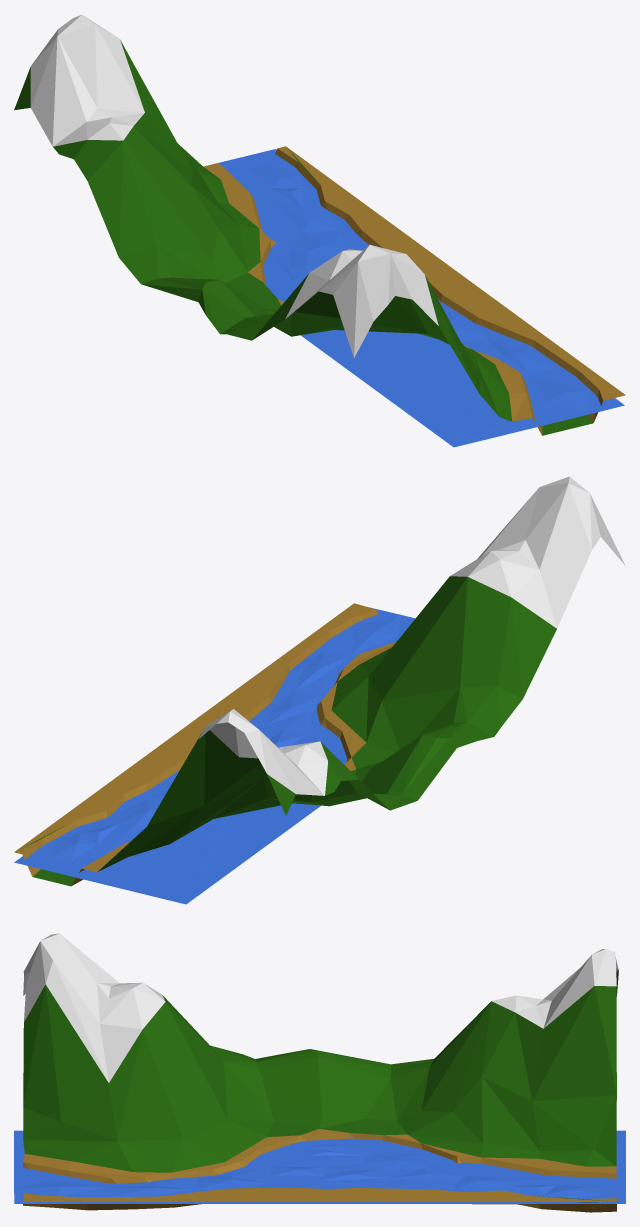
File: Mountain05.fbx
3 renders of one model, top to bottom at view 1: azimuth 30°, elevation 25°; view 2: azimuth 150°, elevation 25°; view 3: azimuth 270°, elevation 25°, orthographic. The views are drawn at different scales.
Visible parts, largest first — view 1: Ground03; view 2: Ground03; view 3: Ground03.
Part boxes in pixels (x1,y1,x2,y2): Ground03: (14,14,625,447); Ground03: (14,476,625,904); Ground03: (14,933,625,1212).
Bounding box in the file's own units: 60.54 × 44.89 × 134.
